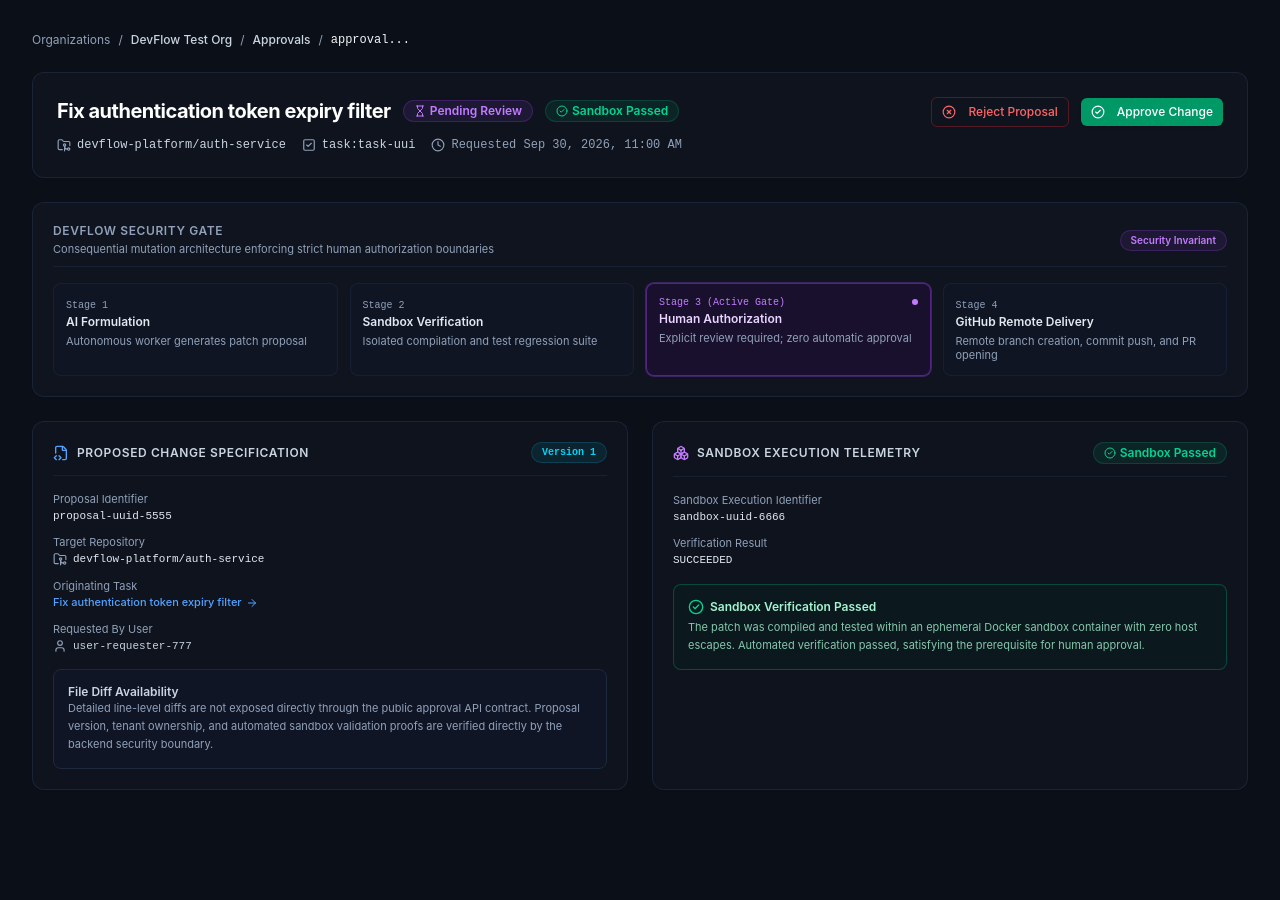
ApprovalDetailPage › opens Approve modal when Approve Change is clicked
Click the button "Approve Change".
click(1152, 112)  # box left=1081, top=98, right=1223, bottom=126
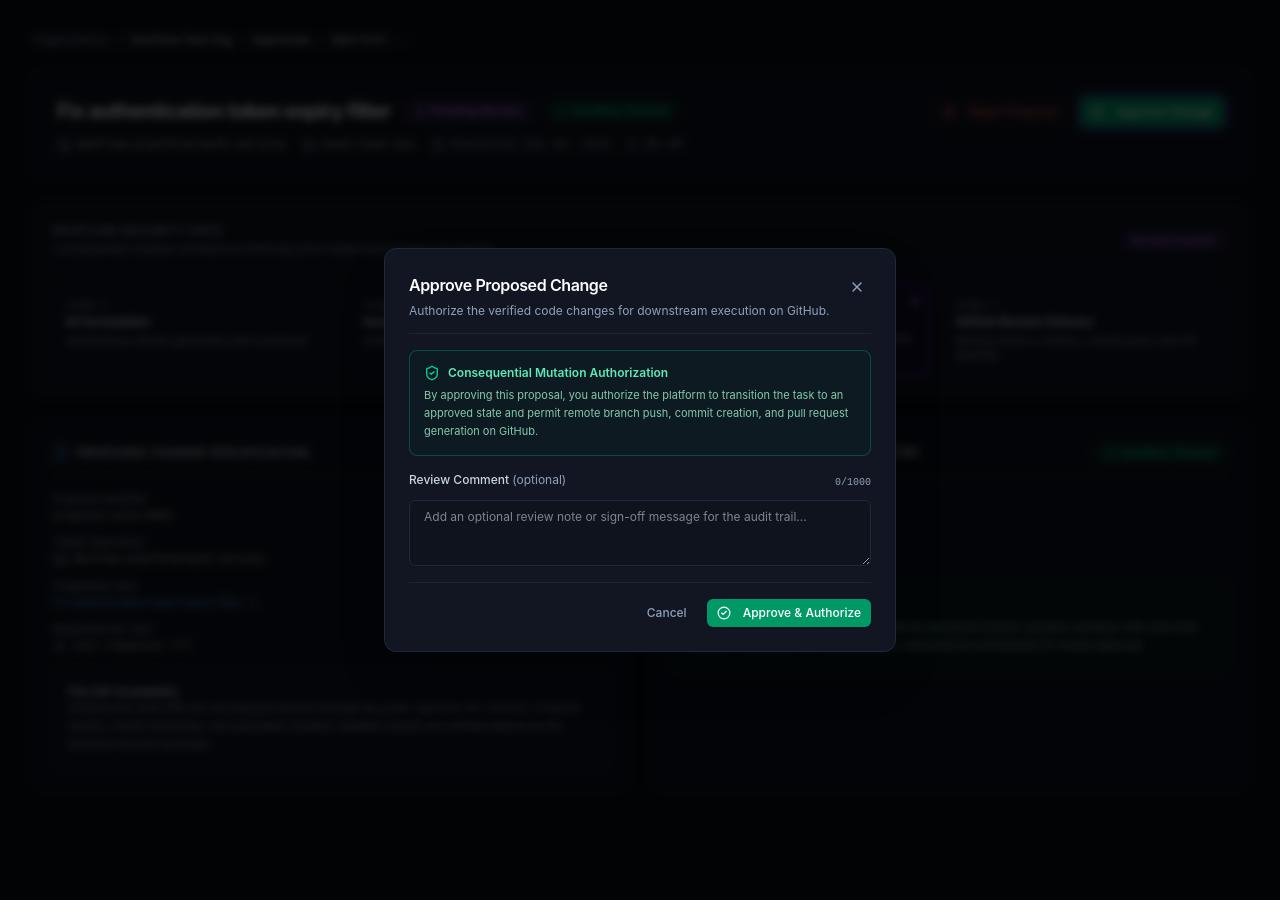
Expected: the text "Consequential Mutation Authorization" is shown, left=448, top=365, right=668, bottom=381
Expected: the button "Approve & Authorize" is shown, left=707, top=599, right=871, bottom=627
